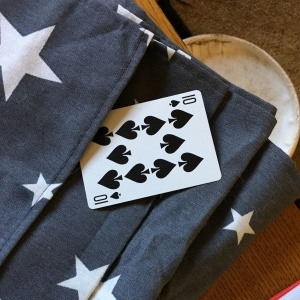card: (78, 89, 222, 211)
